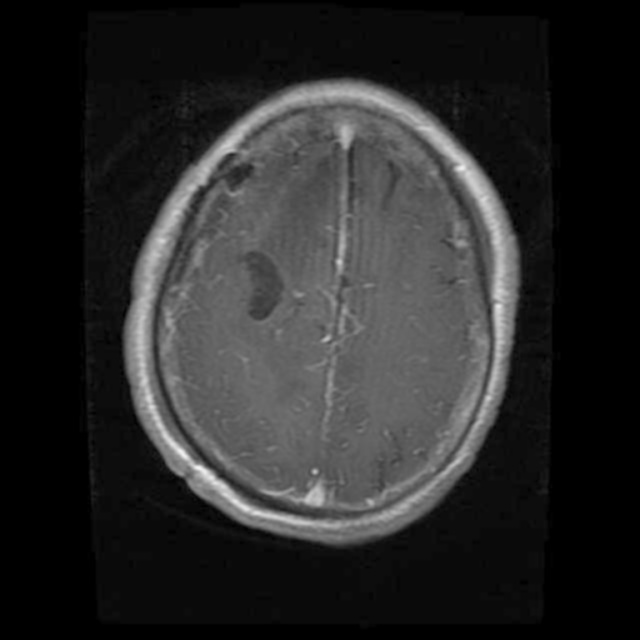pituitary tumor: (238, 242, 282, 328)
